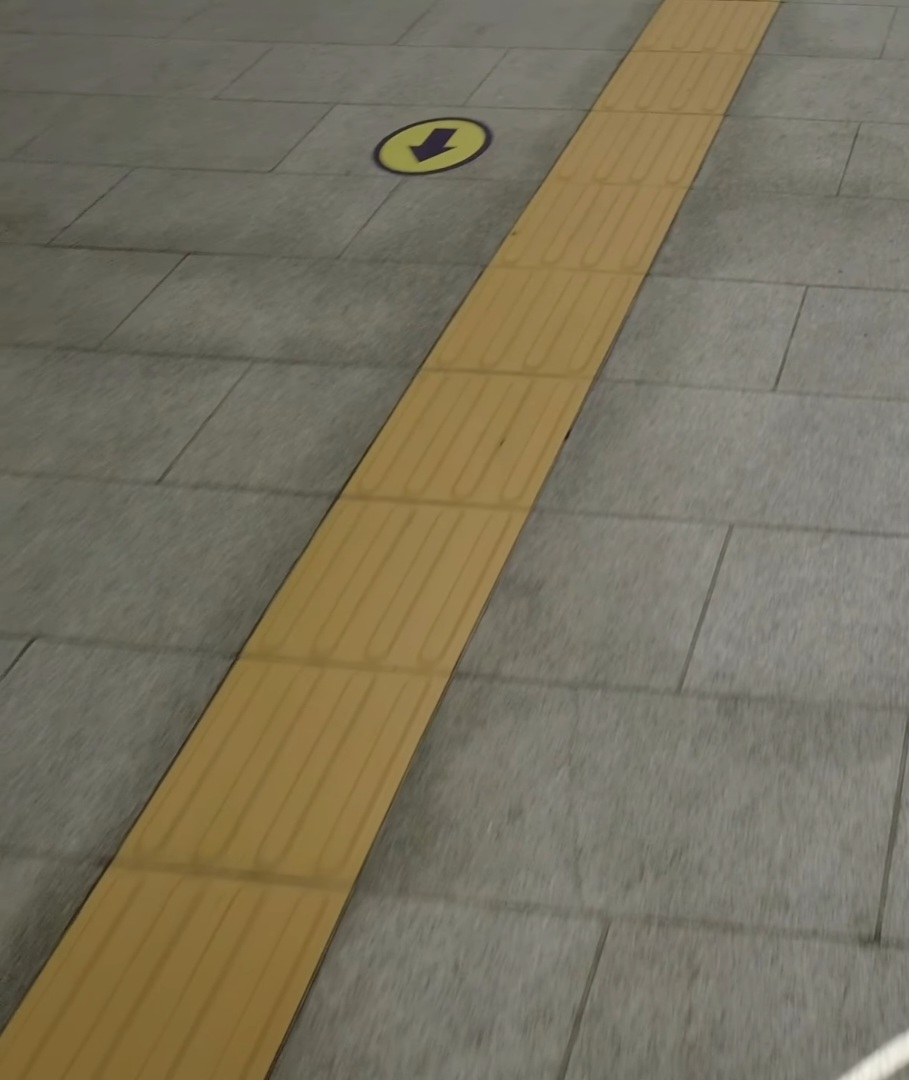guideBlock: (70, 893, 285, 1080), (170, 681, 408, 844), (281, 499, 516, 659), (375, 366, 572, 523), (478, 256, 615, 395), (507, 156, 667, 273), (577, 103, 711, 197), (608, 57, 736, 122), (659, 10, 761, 66)
